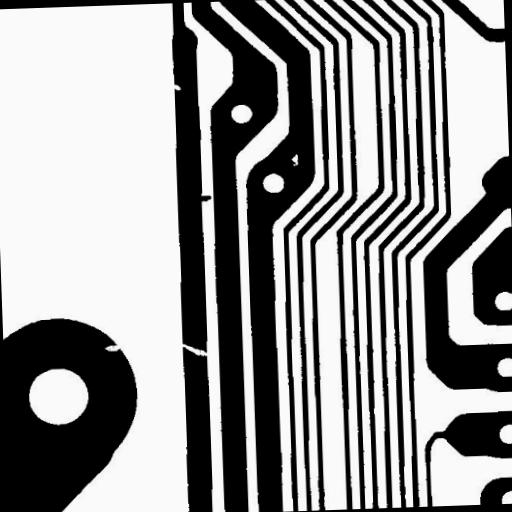mousebite: (96, 336, 129, 358), (162, 76, 188, 98)
open: (170, 334, 216, 364)
pin-hole: (282, 146, 304, 174)
spur: (190, 187, 218, 209)
